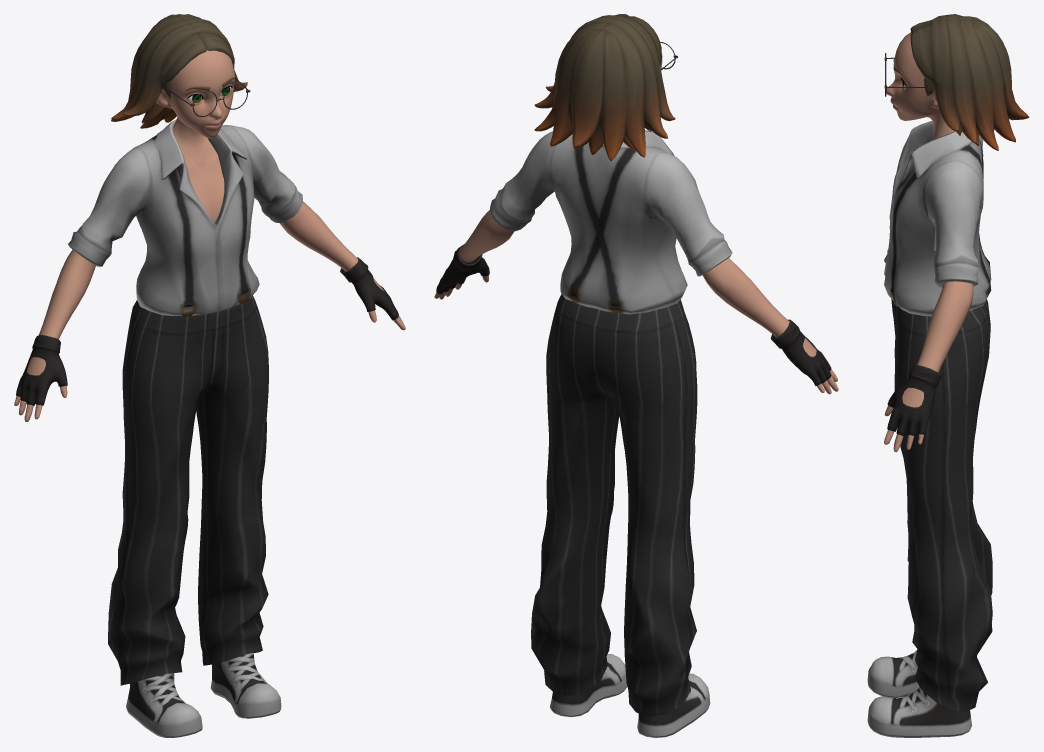
File: StaffOldTourist2_Mesh.obj
3 views of the same model, side by side, from view 1: azimuth 30°, elevation 25°; view 2: azimuth 150°, elevation 25°; view 3: azimuth 270°, elevation 25° (orthographic). The views are drawn at different scales.
Parts seen in each view (by area): view 1: StaffOldTourist2_Mesh_0; view 2: StaffOldTourist2_Mesh_0; view 3: StaffOldTourist2_Mesh_0.
Boxes of the visible parts, x1,y1,x2,y2 form: StaffOldTourist2_Mesh_0: (14,14,405,737); StaffOldTourist2_Mesh_0: (434,14,838,737); StaffOldTourist2_Mesh_0: (867,14,1029,737).
Bounding box in the file's own units: 1.06 × 1.8 × 0.3835.
Materials: 1 (1 with a texture image).
